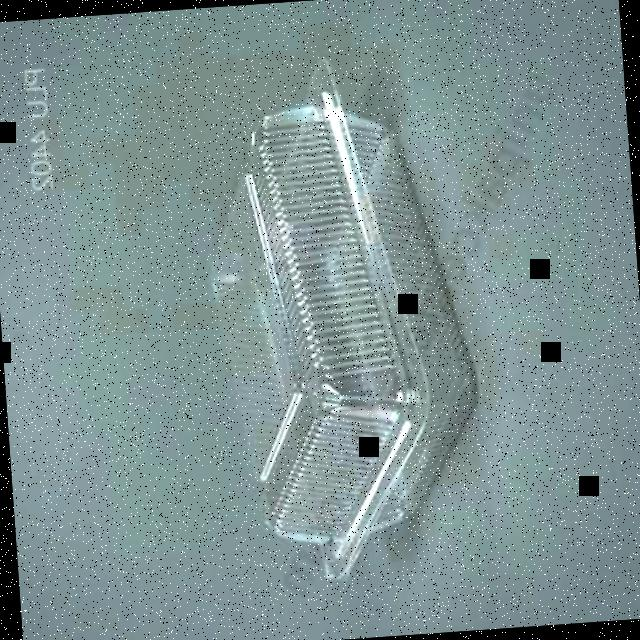plastic_box: (193, 50, 493, 588)
